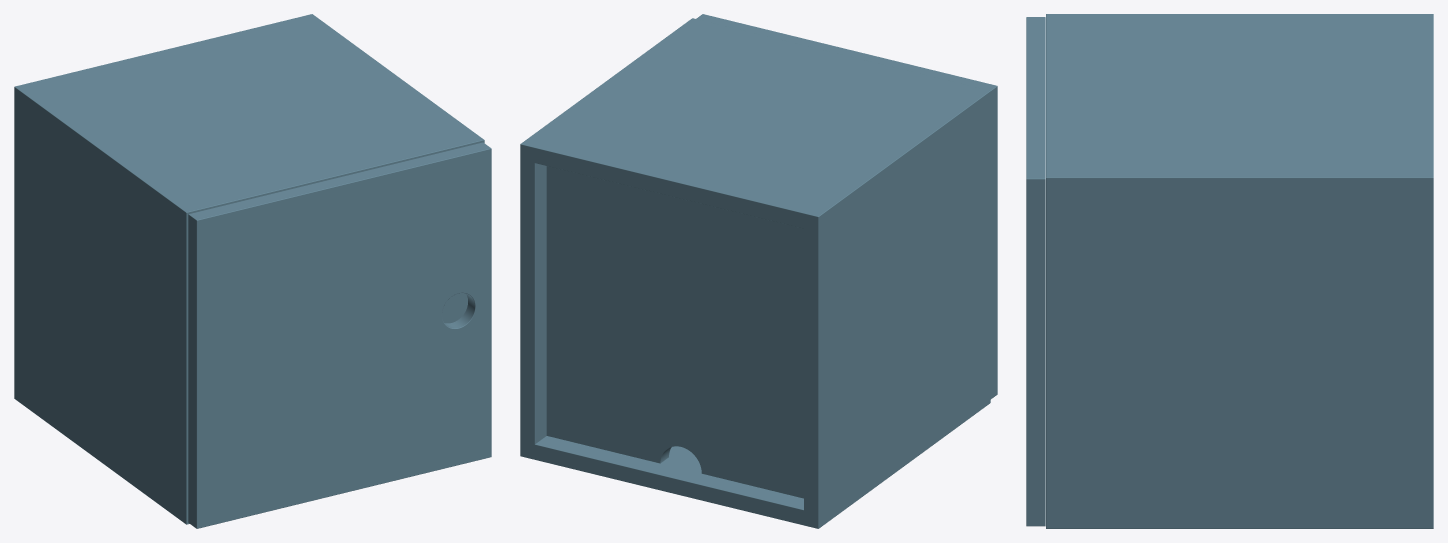
Rendered from MOD-1X1-D-B-DER-AP-AC.glb.
3 views of the same model, side by side, from view 1: azimuth 30°, elevation 25°; view 2: azimuth 150°, elevation 25°; view 3: azimuth 270°, elevation 25° (orthographic). The views are drawn at different scales.
Size of the model in its own units: 360 by 360 by 378.
